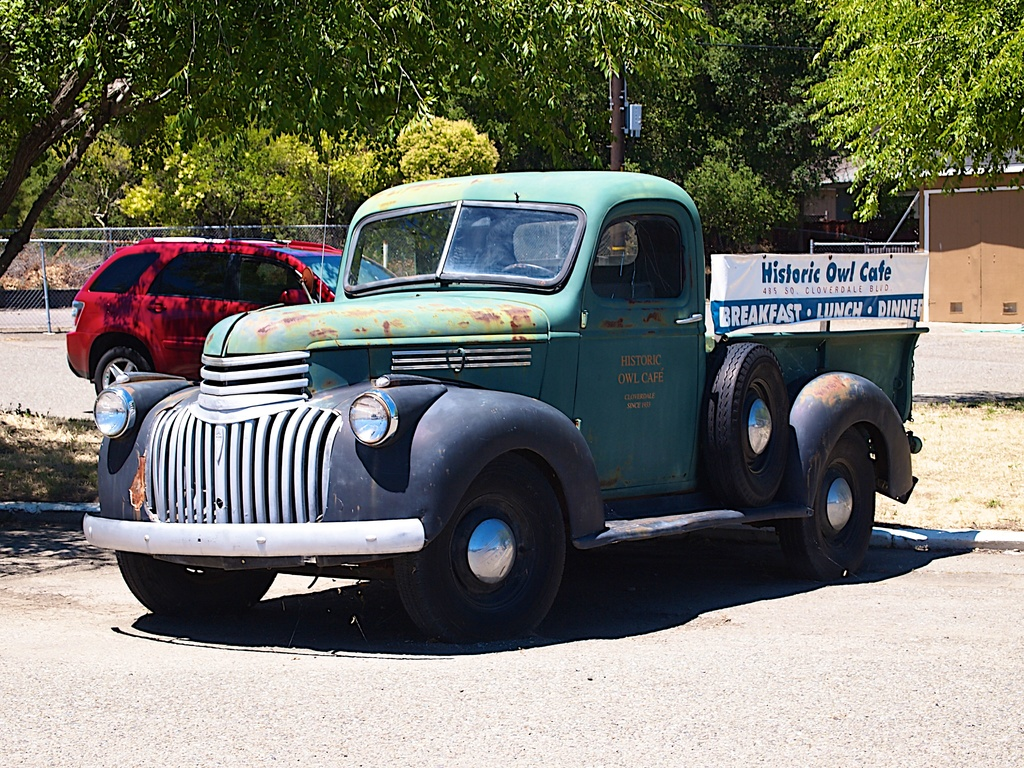mobil: (103, 198, 963, 640), (69, 223, 365, 371)
